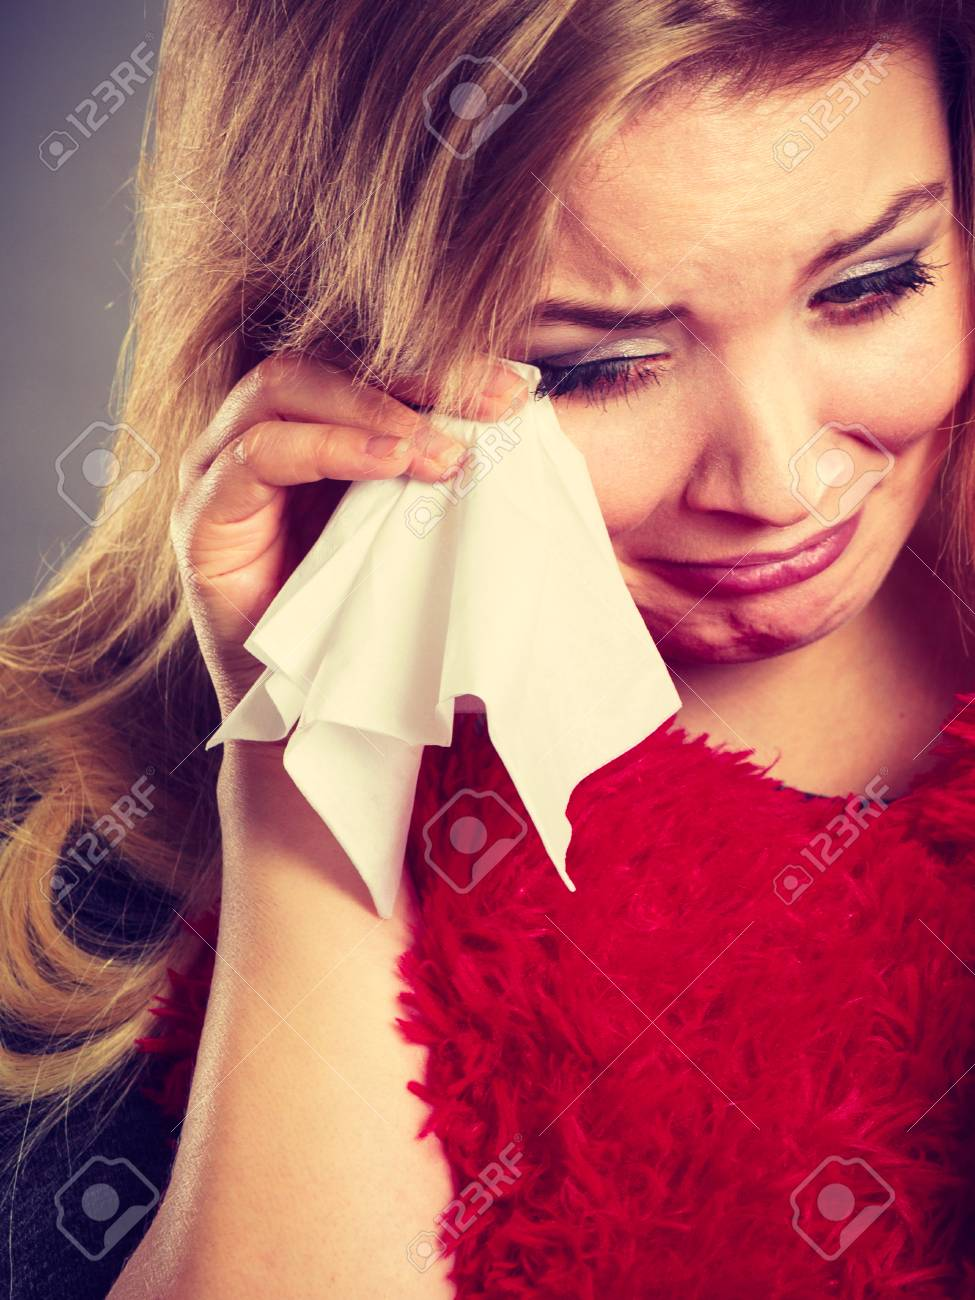Sad: (474, 194, 975, 648)
